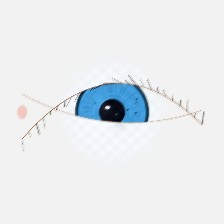pinguecula_lesion: (157, 104, 193, 133)
